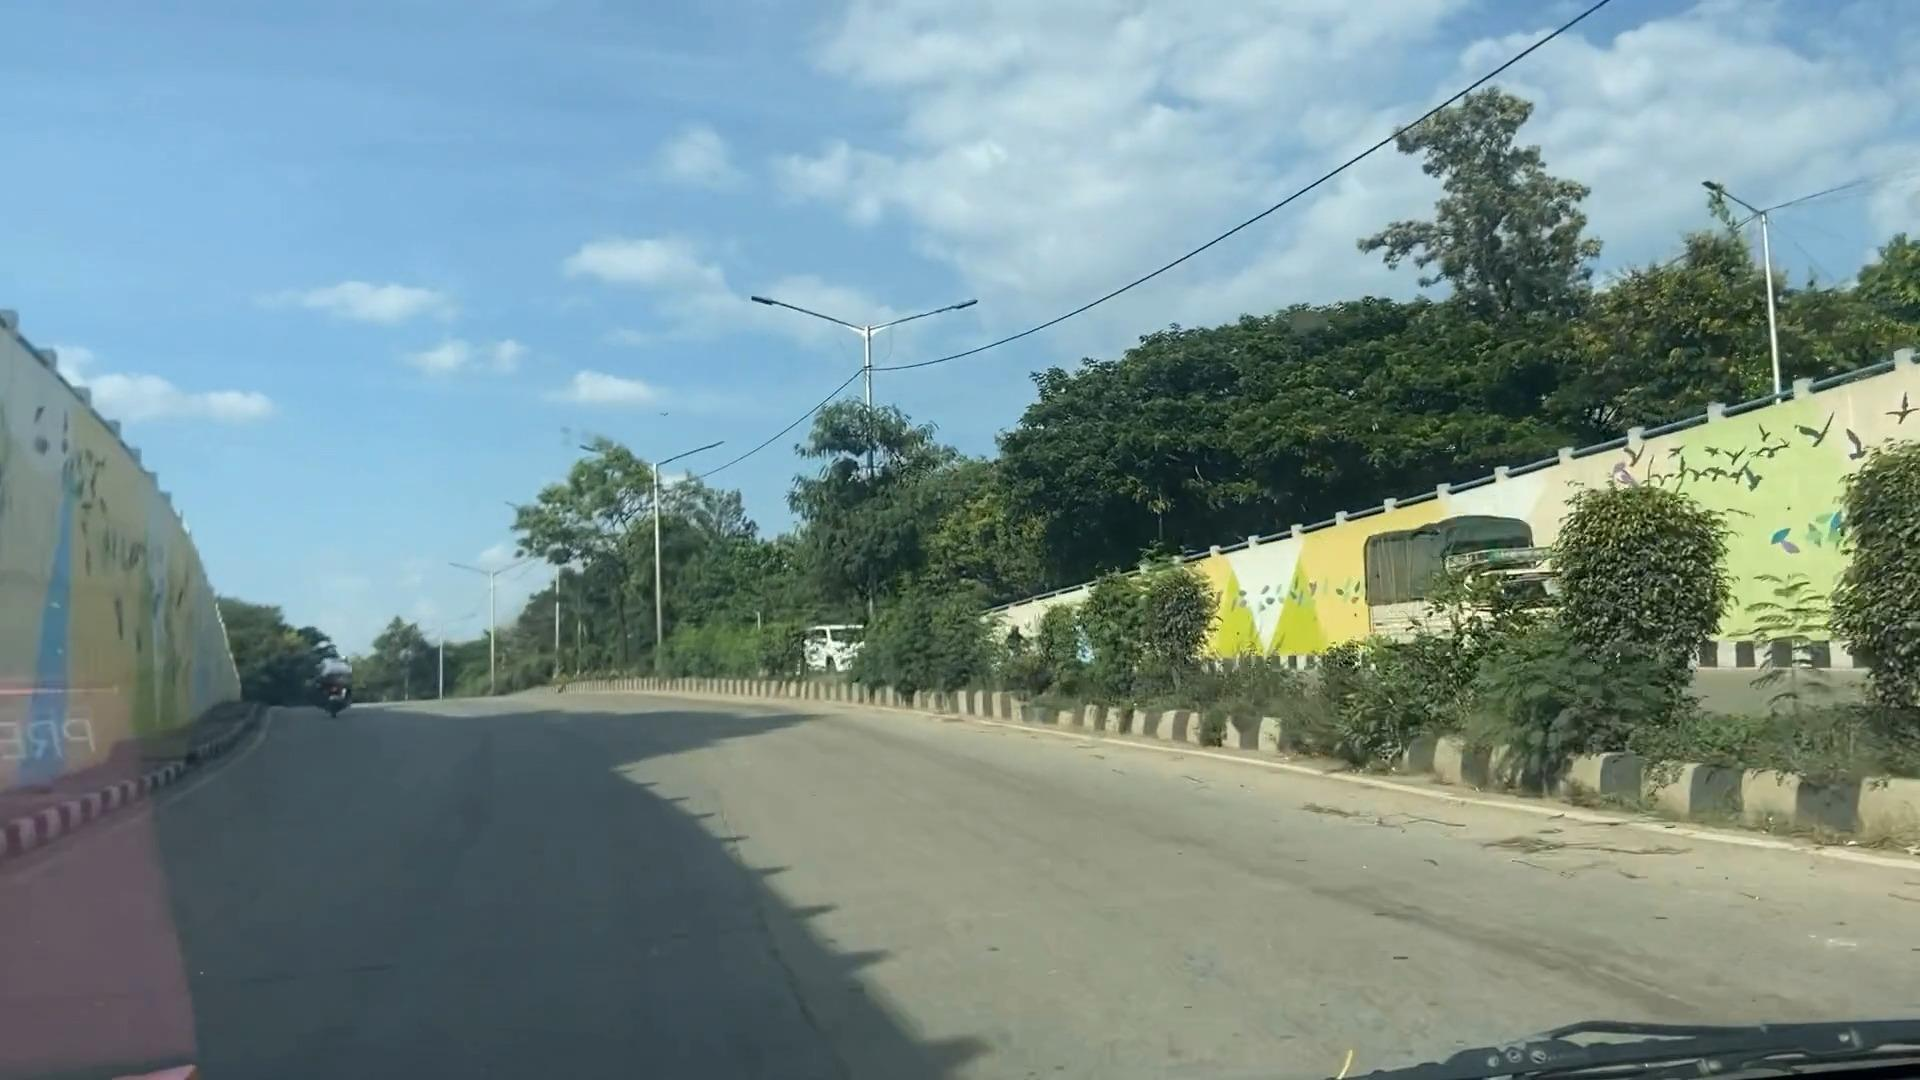LMV: (314, 646, 352, 715)
